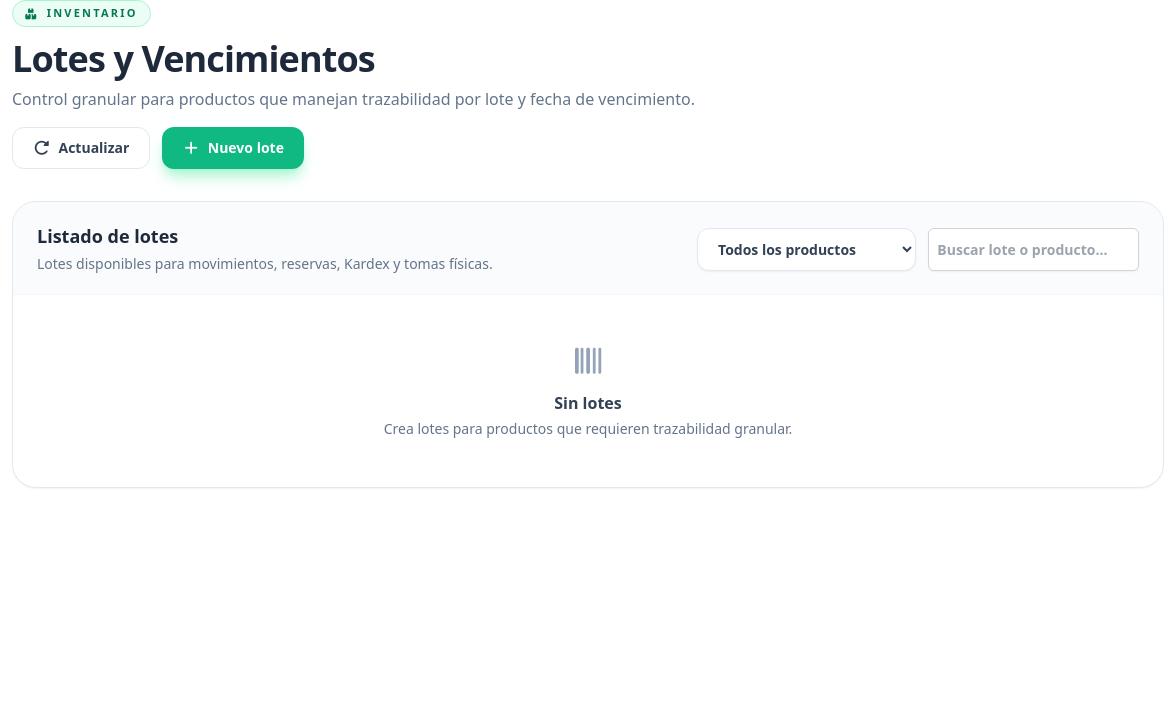
Test case: LotesInventario (vista) › muestra el formulario de nuevo lote al hacer clic en el botón
Click the button "Nuevo lote": {"x": 233, "y": 148} [162,127,304,169]
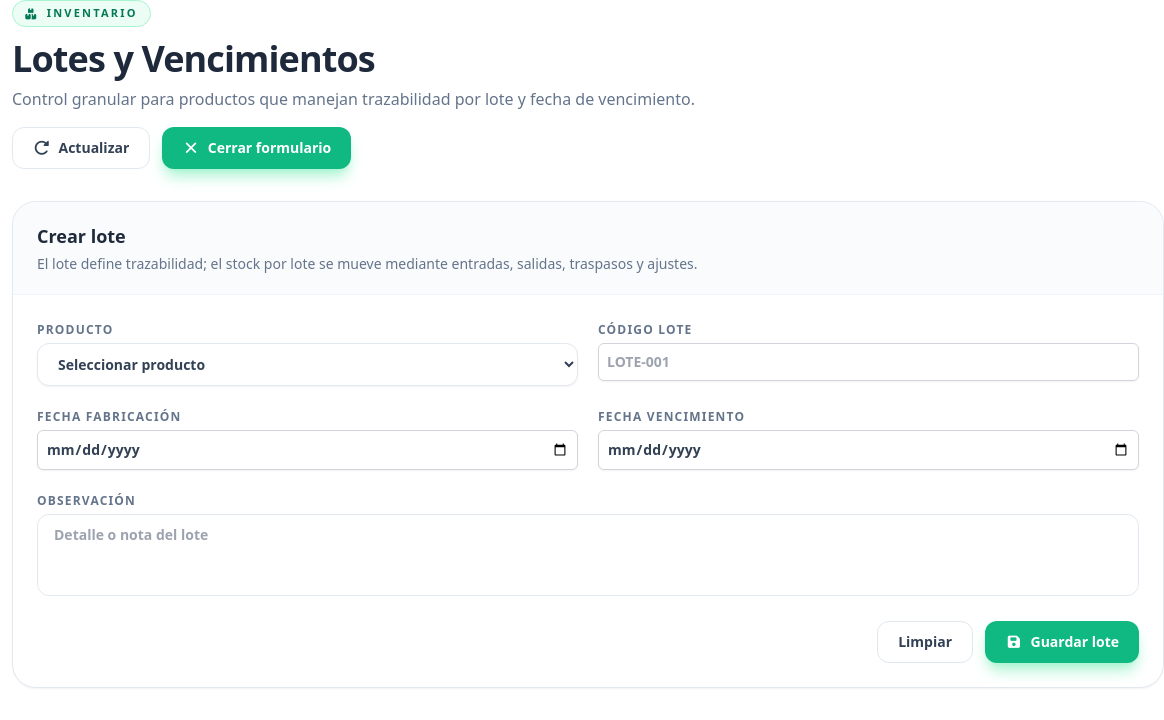
Result: the heading "Crear lote" is shown at [37,224,126,248]
